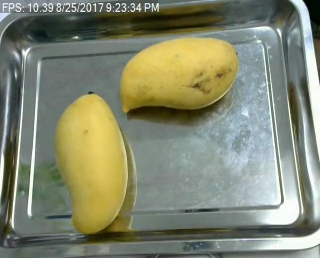Mango: (54, 93, 131, 234), (119, 34, 238, 115)
